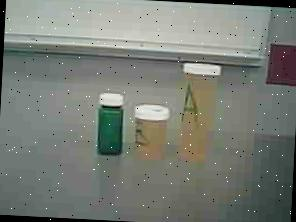Bottle A: (174, 57, 232, 166)
Bottle B: (128, 100, 172, 162)
Bottle C: (84, 88, 130, 160)
